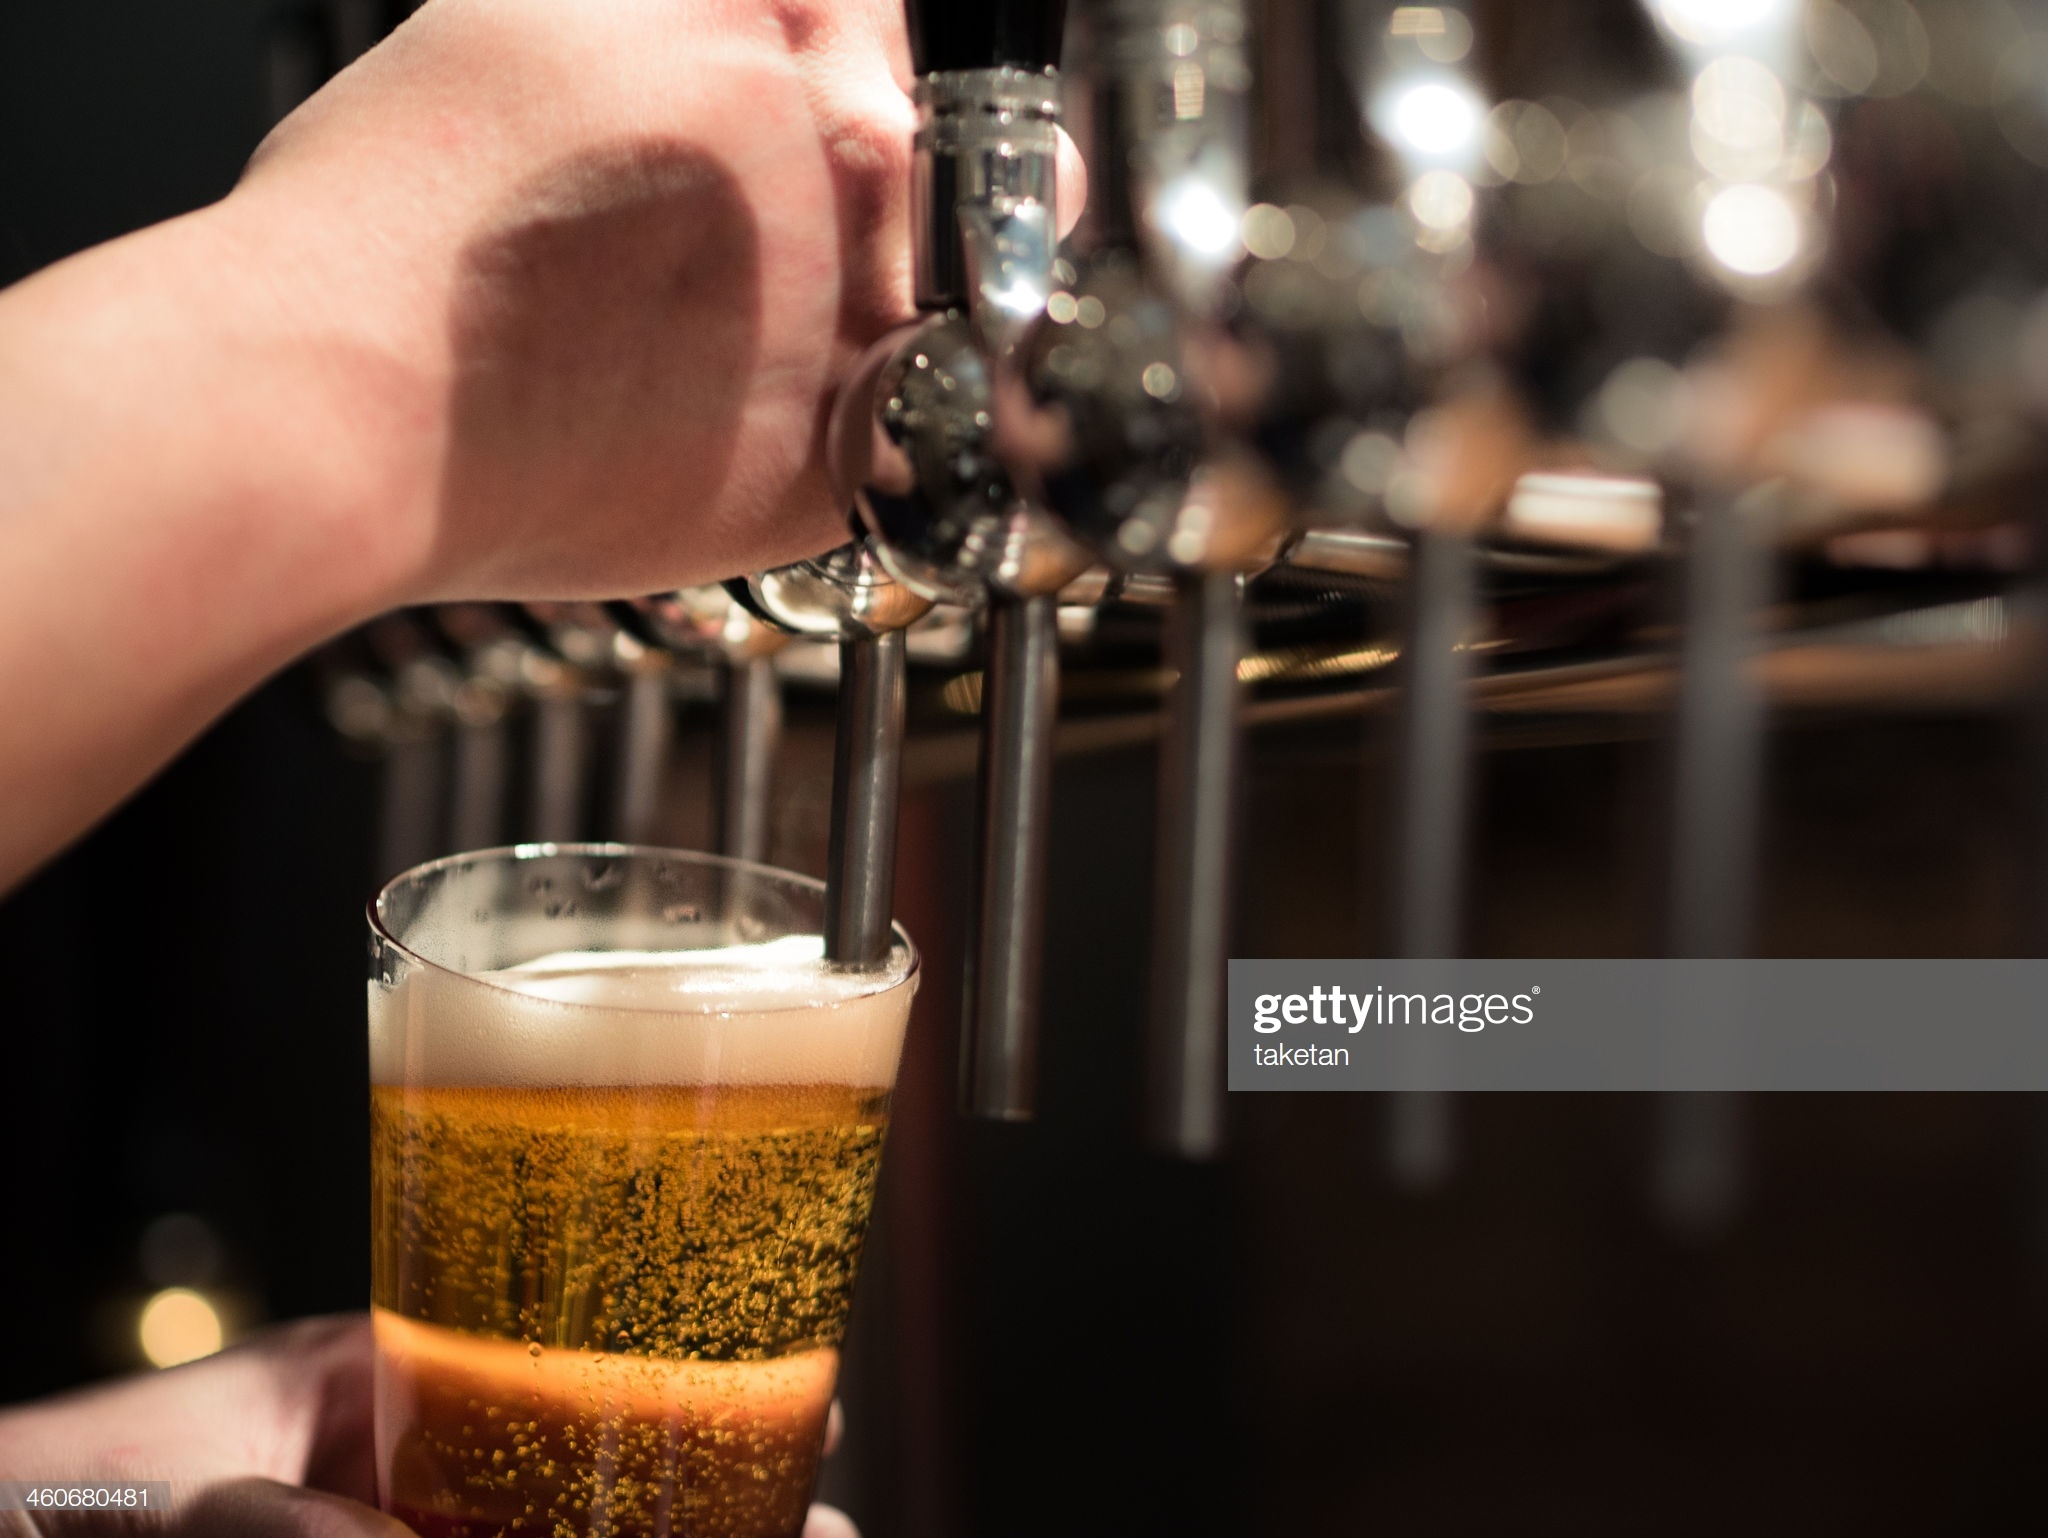glassBeer: (368, 851, 904, 1538)
